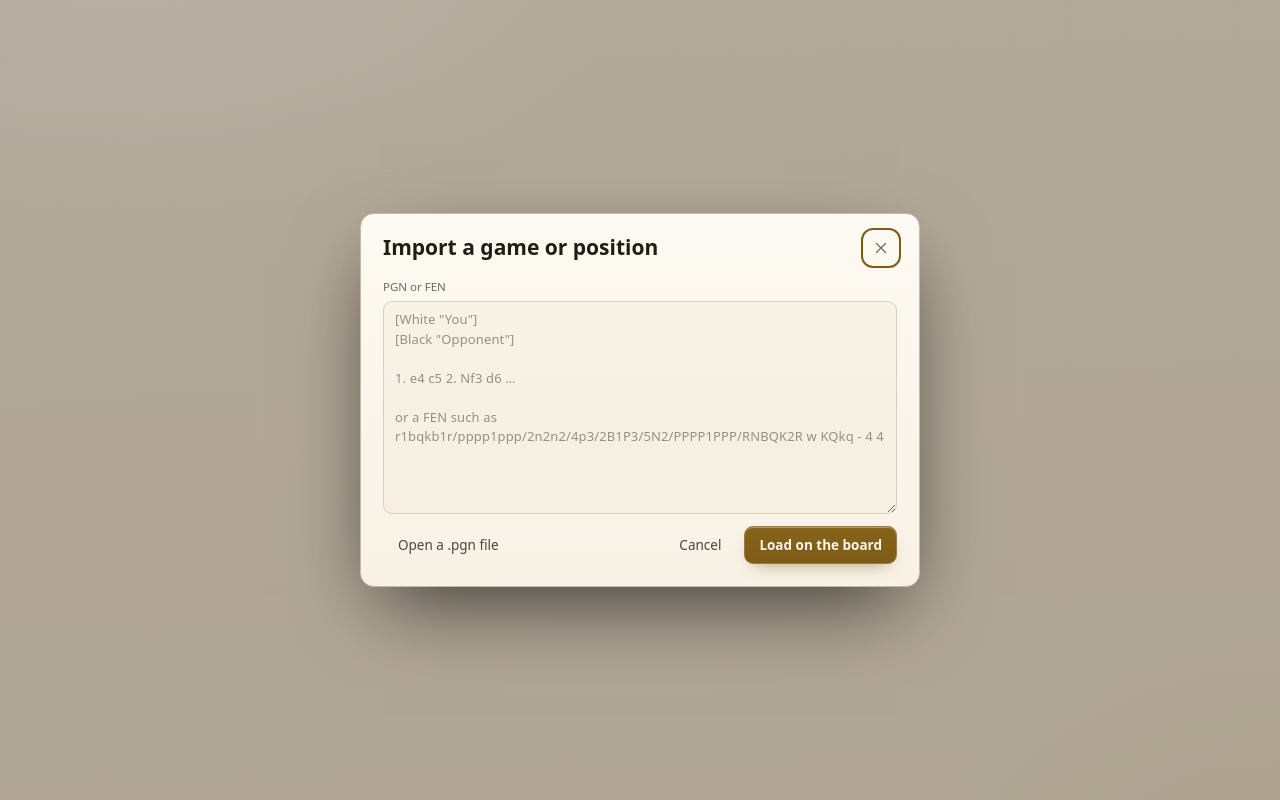
ImportDialog › asks for text first
Click the button "Load on the board".
click(821, 545)  # box [744,526,897,564]
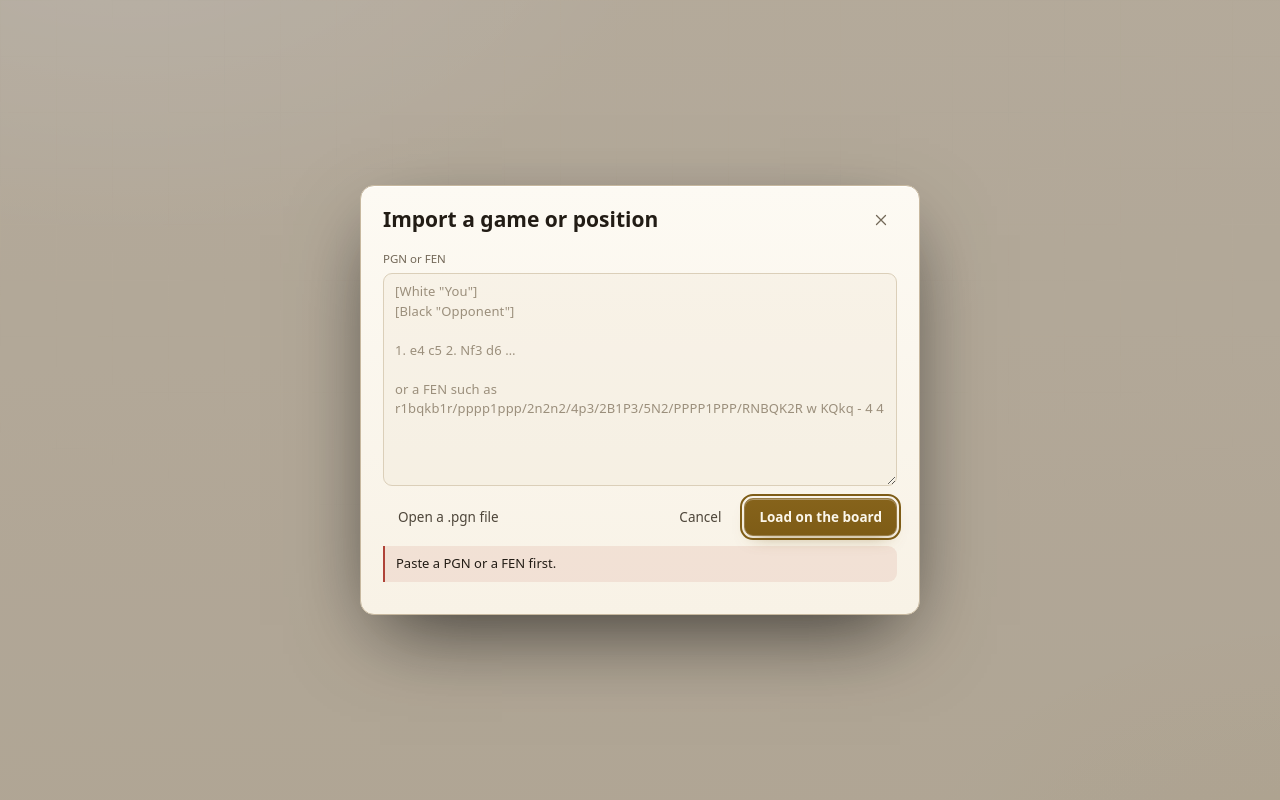
Now the message reads "Paste a PGN or a FEN first.", box [396,554,556,572]
